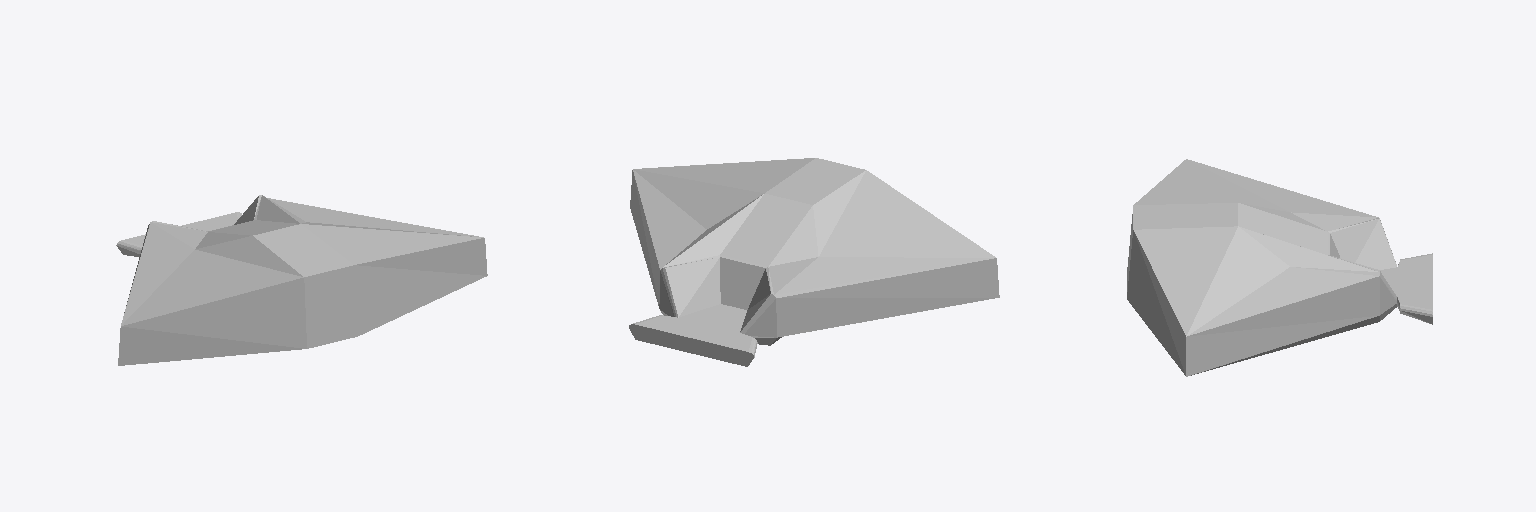
The model's file is map_spawn.obj.
3 views of the same model, side by side, from view 1: azimuth 30°, elevation 25°; view 2: azimuth 150°, elevation 25°; view 3: azimuth 270°, elevation 25° (orthographic).
Parts seen in each view (by area): view 1: Cube_Cube.001; view 2: Cube_Cube.001; view 3: Cube_Cube.001.
Part boxes in pixels (bbox=[...]): Cube_Cube.001: bbox=[116, 195, 487, 365]; Cube_Cube.001: bbox=[629, 158, 999, 366]; Cube_Cube.001: bbox=[1127, 159, 1432, 376].
Size of the model in its own units: 584 by 125 by 419.